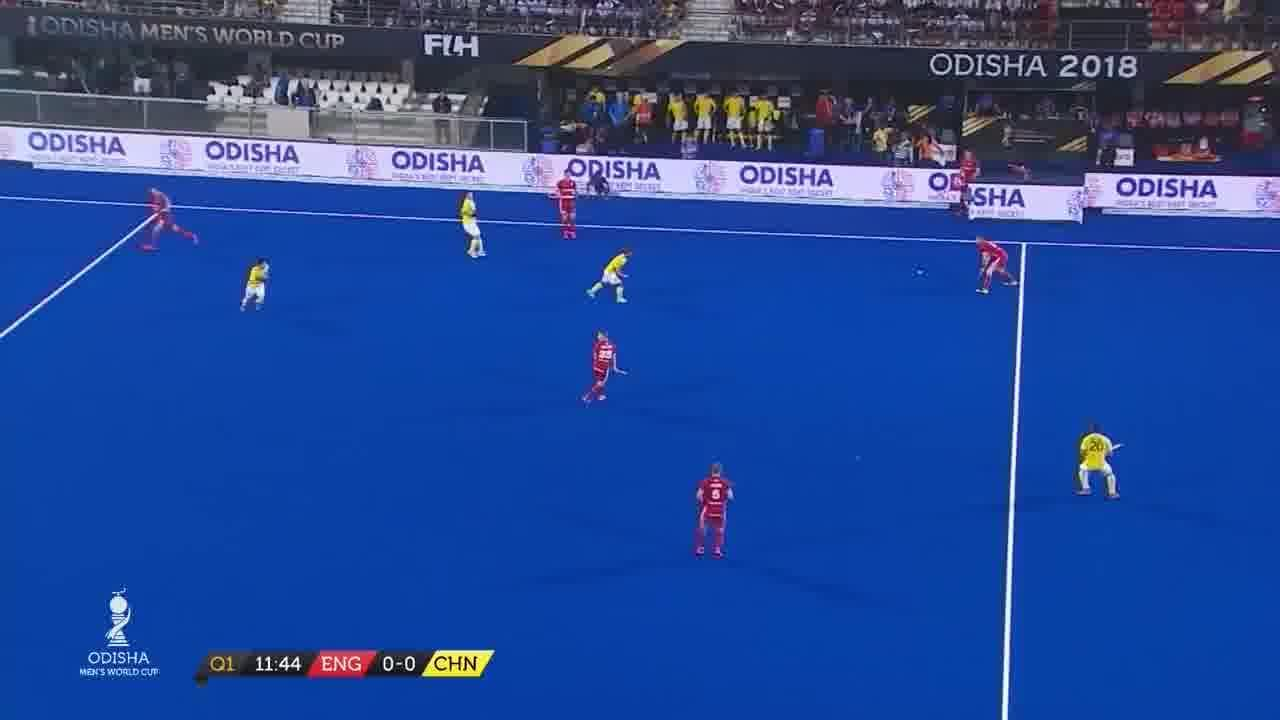ball: (913, 260, 935, 293)
